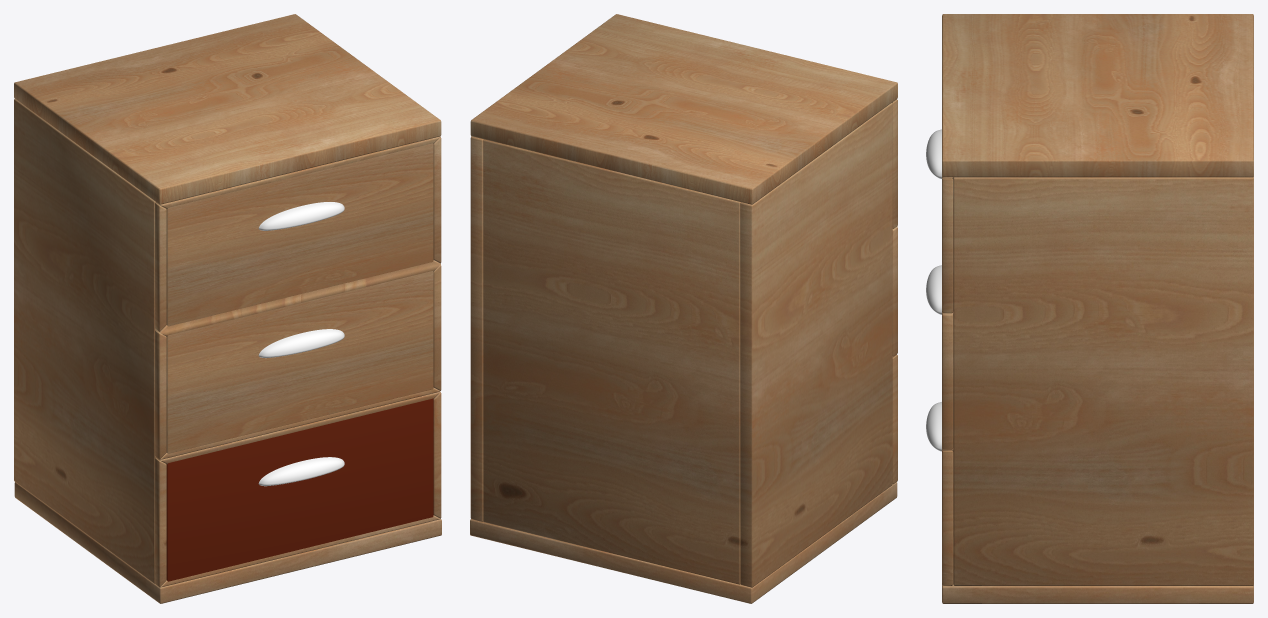
Rendered from bedside_table_wood.glb.
3 views of the same model, side by side, from view 1: azimuth 30°, elevation 25°; view 2: azimuth 150°, elevation 25°; view 3: azimuth 270°, elevation 25° (orthographic). The views are drawn at different scales.
Parts seen in each view (by area): view 1: Object_4, Object_5, Object_8, Object_15, Object_11, Object_7, Object_10, Object_13; view 2: Object_4, Object_5; view 3: Object_4, Object_5, Object_10, Object_13, Object_7.
Boxes of the visible parts, <box> form: Object_4: <box>14,99,441,603</box>; Object_5: <box>14,14,441,204</box>; Object_8: <box>166,143,433,326</box>; Object_15: <box>166,398,433,581</box>; Object_11: <box>166,271,433,453</box>; Object_7: <box>258,202,344,230</box>; Object_10: <box>258,329,344,358</box>; Object_13: <box>258,457,344,486</box>; Object_4: <box>470,99,897,603</box>; Object_5: <box>470,14,897,204</box>; Object_4: <box>942,176,1253,603</box>; Object_5: <box>942,14,1253,177</box>; Object_10: <box>926,265,941,314</box>; Object_13: <box>926,402,941,451</box>; Object_7: <box>926,129,941,178</box>.
Bounding box in the file's own units: 0.42 × 0.59 × 0.395.
Materials: 4 (3 with a texture image).
